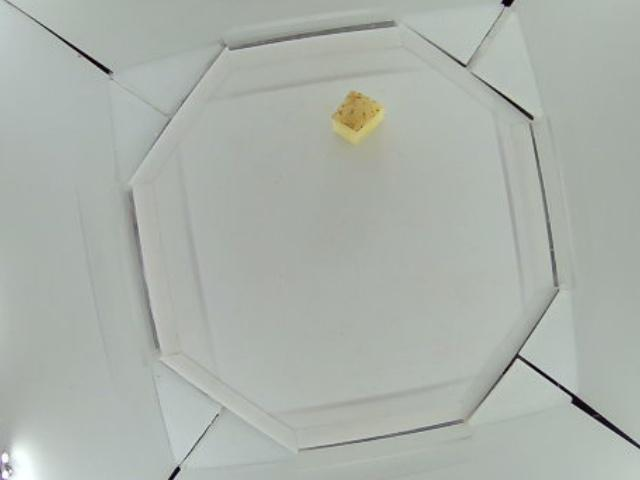Potato: (329, 91, 382, 136)
